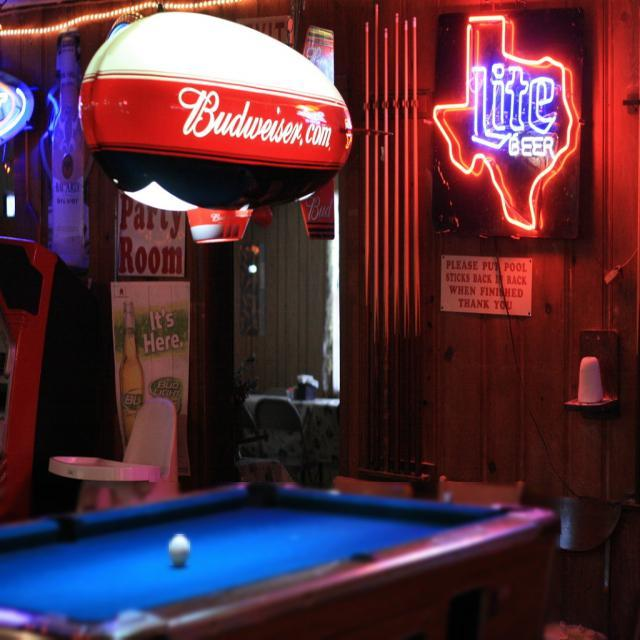Ball: (169, 534, 190, 565)
Billiard table: (0, 482, 560, 640)
